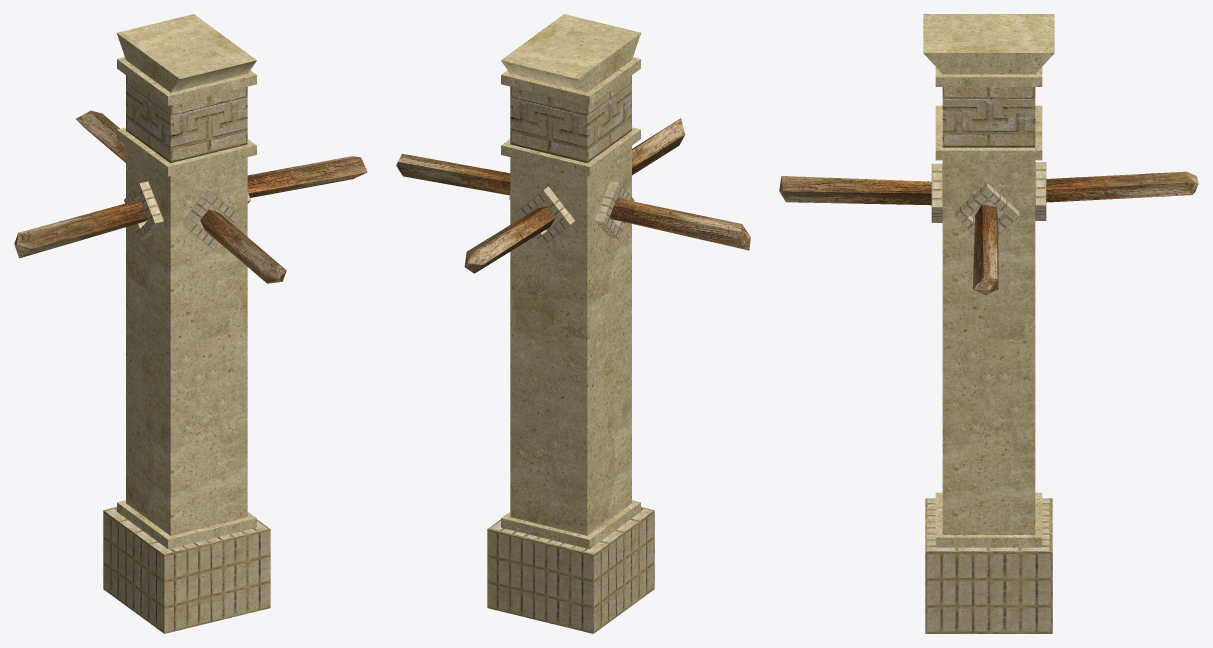
File: tutorial_structure_pillar_with_ornaments.dae
3 views of the same model, side by side, from view 1: azimuth 30°, elevation 25°; view 2: azimuth 150°, elevation 25°; view 3: azimuth 270°, elevation 25° (orthographic). The views are drawn at different scales.
Parts seen in each view (by area): view 1: tutorial_structure_pillar_with_ornaments; view 2: tutorial_structure_pillar_with_ornaments; view 3: tutorial_structure_pillar_with_ornaments.
Boxes of the visible parts, <box> form: tutorial_structure_pillar_with_ornaments: <box>14,14,367,633</box>; tutorial_structure_pillar_with_ornaments: <box>396,14,750,633</box>; tutorial_structure_pillar_with_ornaments: <box>779,14,1198,633</box>.
Bounding box in the file's own units: 7.93 × 7.93 × 11.96.
5 materials, 5 textured.
